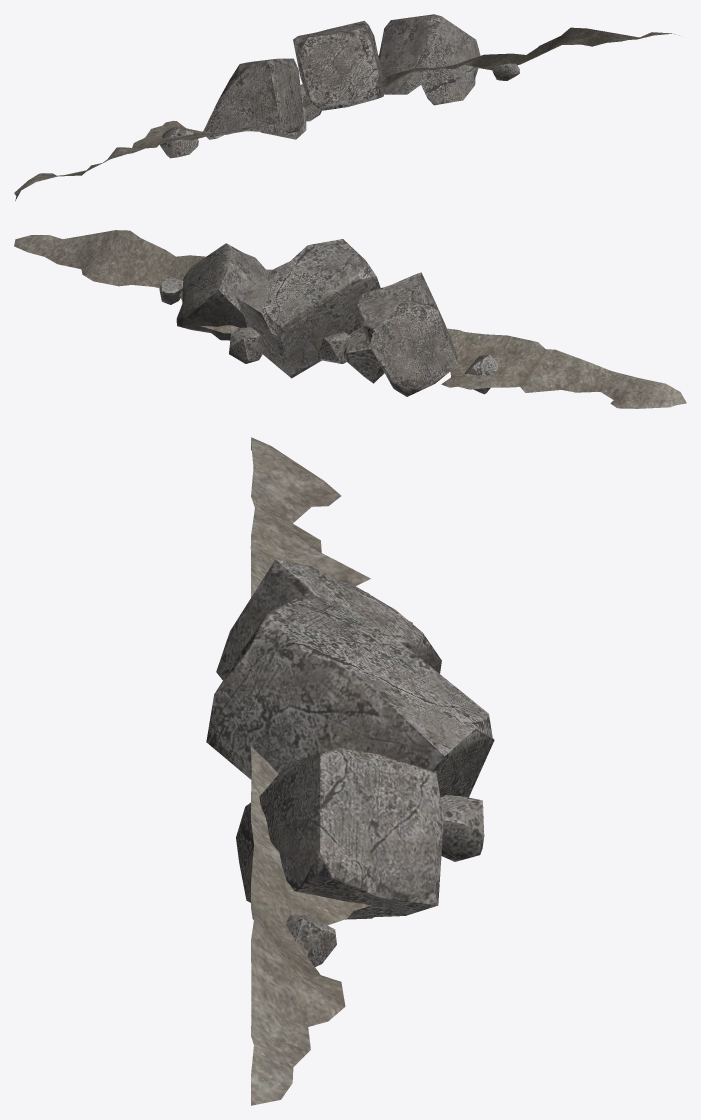
The picture shows the model from 3 angles, top to bottom: view 1: azimuth 30°, elevation 25°; view 2: azimuth 150°, elevation 25°; view 3: azimuth 270°, elevation 25°; orthographic projection. The views are drawn at different scales.
Parts seen in each view (by area): view 1: SM_Rubble04_LOD0; view 2: SM_Rubble04_LOD0; view 3: SM_Rubble04_LOD0.
Boxes of the visible parts, <box> form: SM_Rubble04_LOD0: <box>14,14,679,200</box>; SM_Rubble04_LOD0: <box>14,230,686,408</box>; SM_Rubble04_LOD0: <box>206,437,494,1105</box>.
Bounding box in the file's own units: 3.04 × 0.4763 × 0.5648.
Materials: 1 (1 with a texture image).
